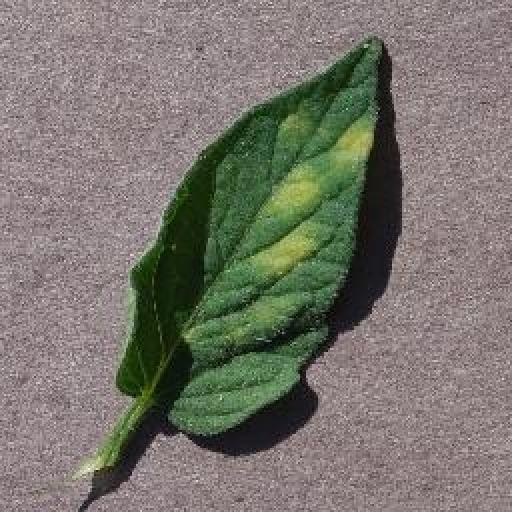Leaf Mold: (115, 35, 388, 437)
